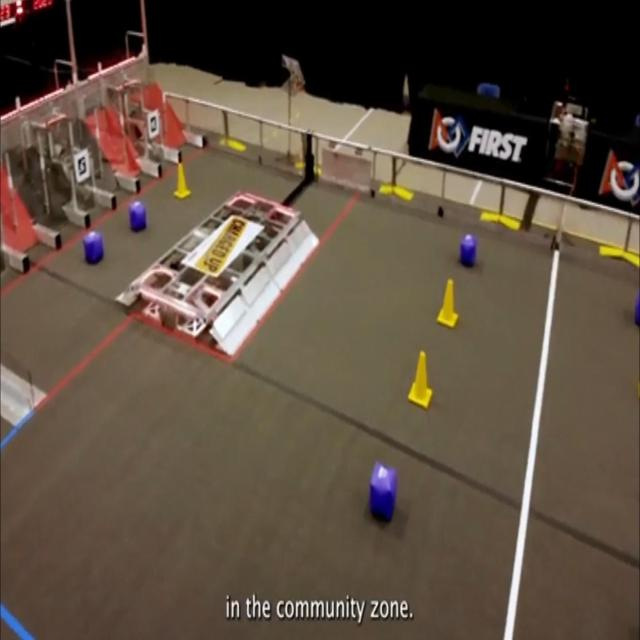frc_cone: (407, 349, 432, 409), (436, 277, 459, 327), (174, 163, 191, 199)
frc_cube: (368, 462, 396, 522), (84, 230, 104, 265), (459, 235, 476, 268), (129, 201, 146, 232), (633, 290, 640, 328)
